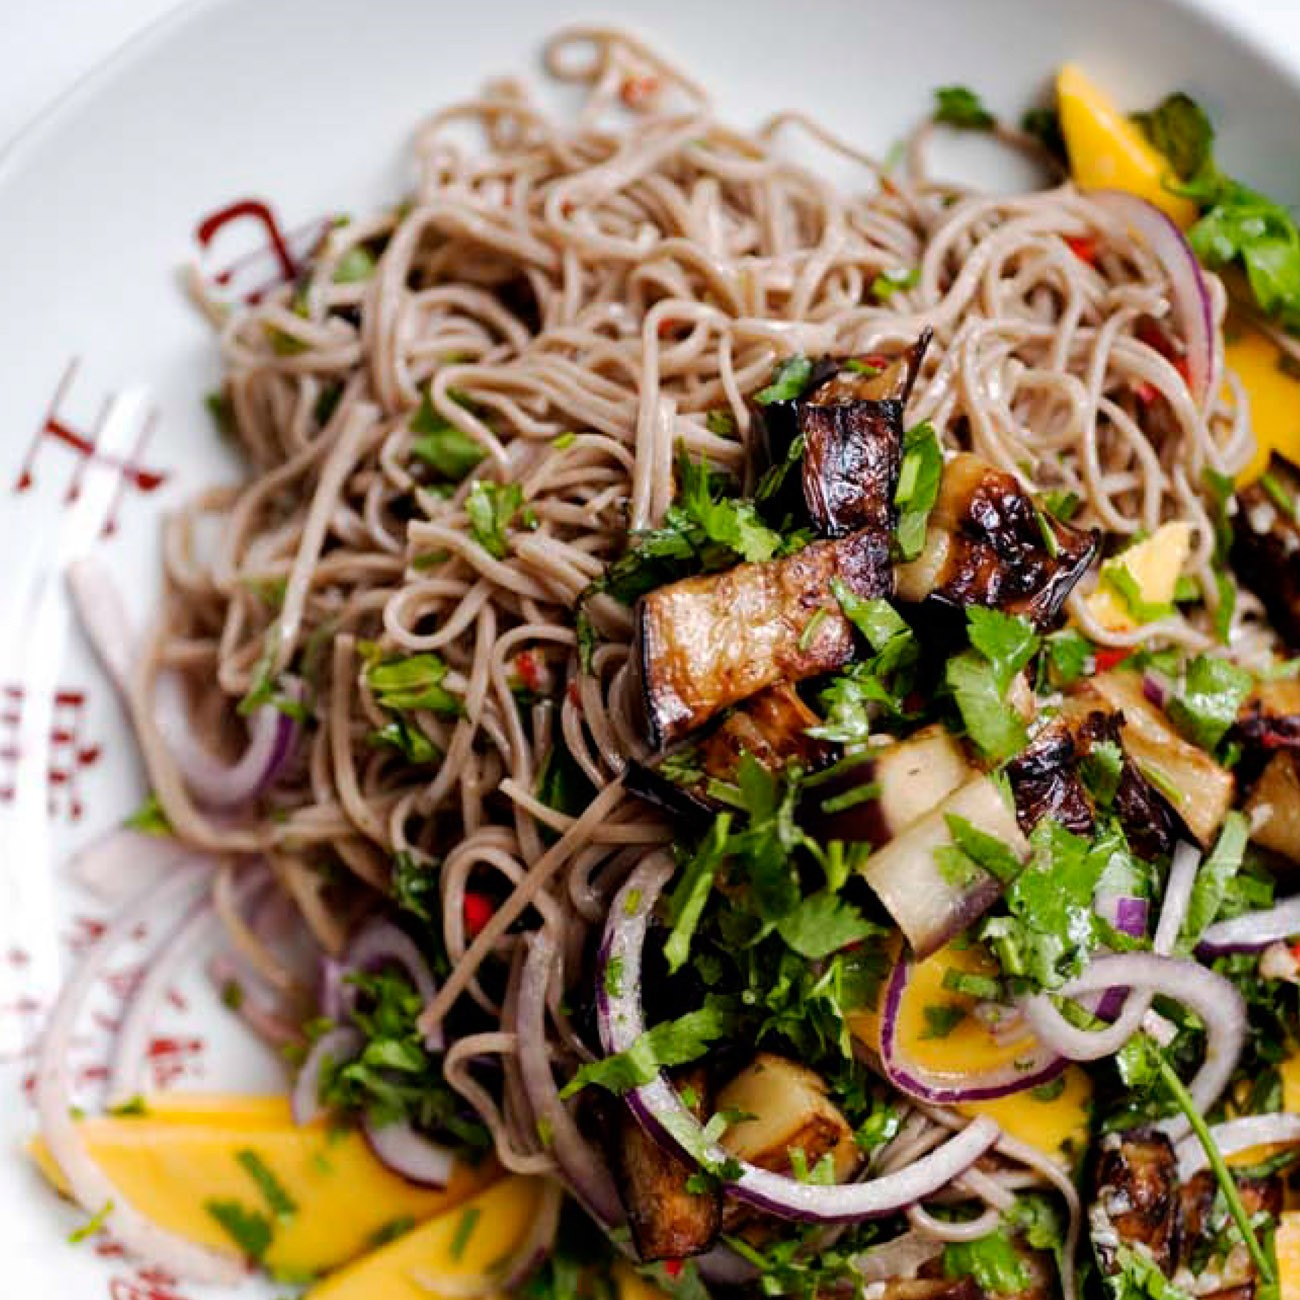Soba: (179, 42, 1250, 1300)
